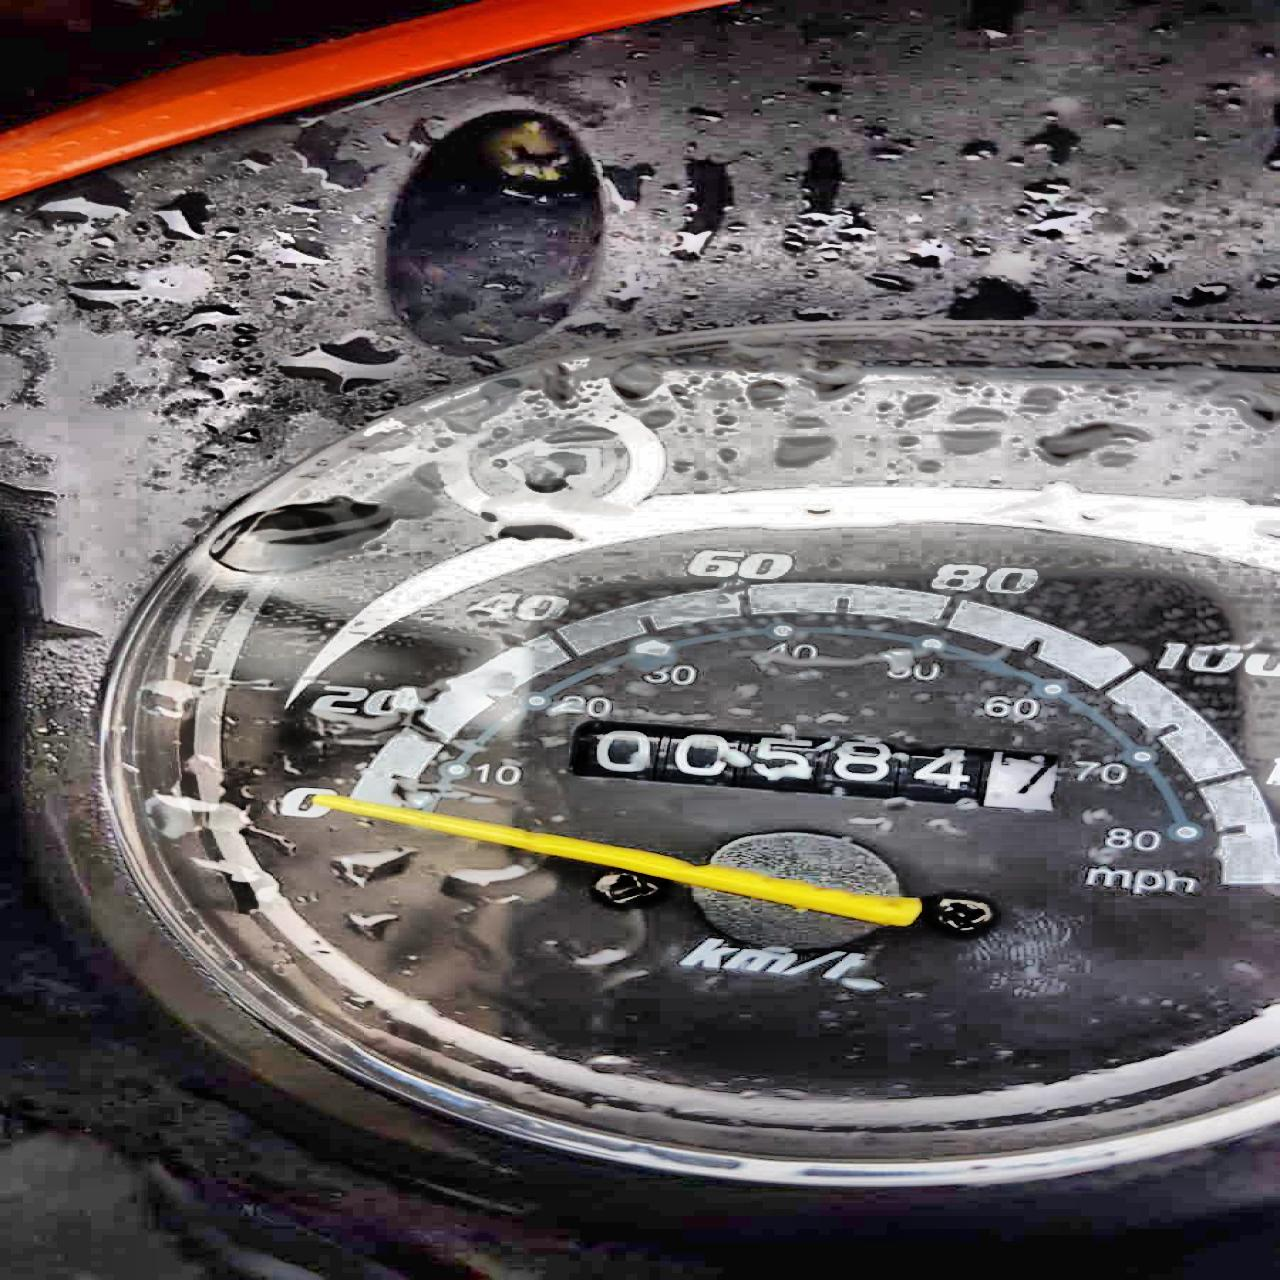0: (673, 731, 729, 776), (593, 728, 651, 771)
4: (911, 748, 969, 789)
5: (749, 736, 810, 779)
7: (998, 750, 1058, 794)
8: (832, 741, 890, 782)
odometer: (559, 717, 1062, 813)
